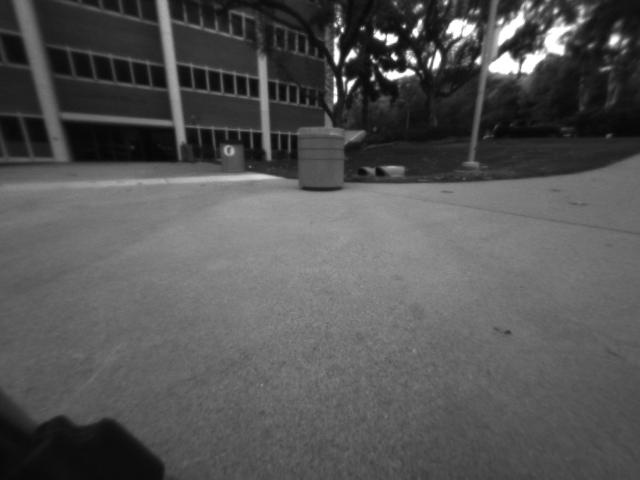trashcan: (293, 120, 352, 198), (214, 133, 249, 175)
